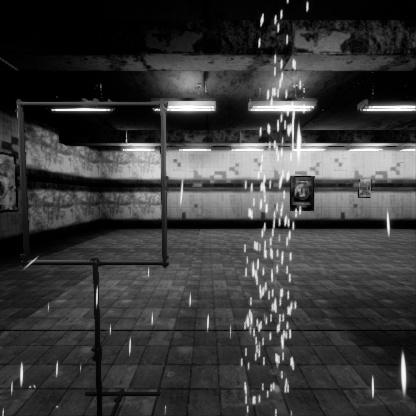gate: (17, 148, 181, 315)
